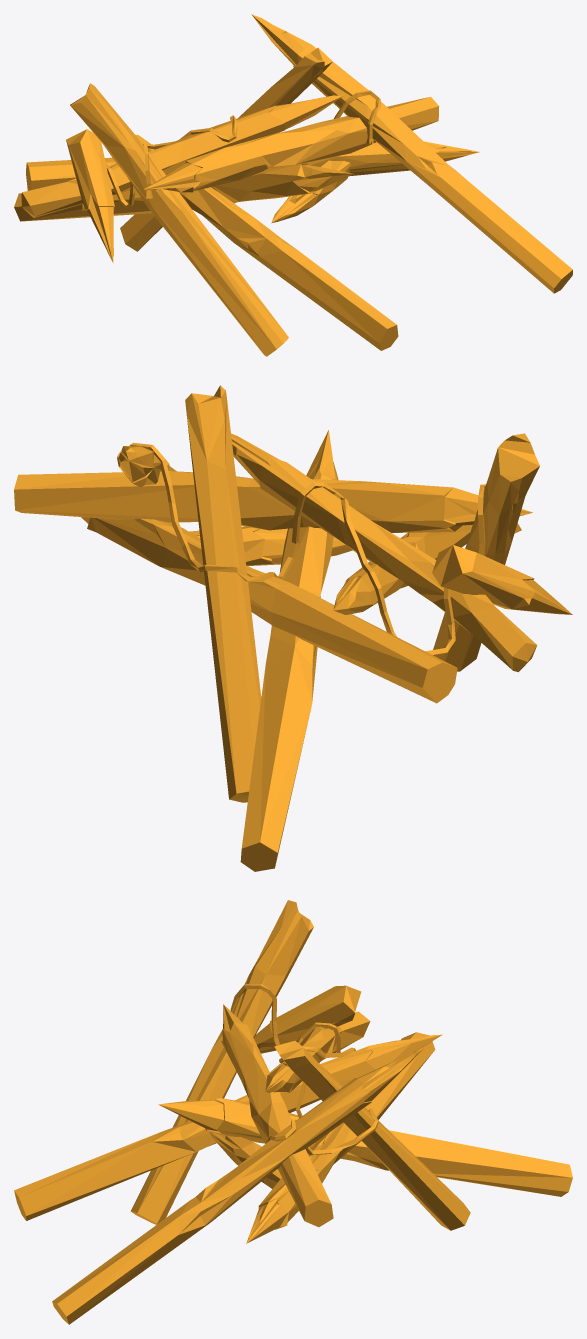
File: SM_Barricade_B_Broken.fbx
3 renders of one model, top to bottom at view 1: azimuth 30°, elevation 25°; view 2: azimuth 150°, elevation 25°; view 3: azimuth 270°, elevation 25°, orthographic. The views are drawn at different scales.
Parts seen in each view (by area): view 1: barricade-b-broken; view 2: barricade-b-broken; view 3: barricade-b-broken.
Part boxes in pixels (x1,y1,x2,y2): barricade-b-broken: (14, 14, 572, 356); barricade-b-broken: (14, 385, 572, 871); barricade-b-broken: (14, 900, 572, 1324).
Bounding box in the file's own units: 2.84 × 1.63 × 3.1.
